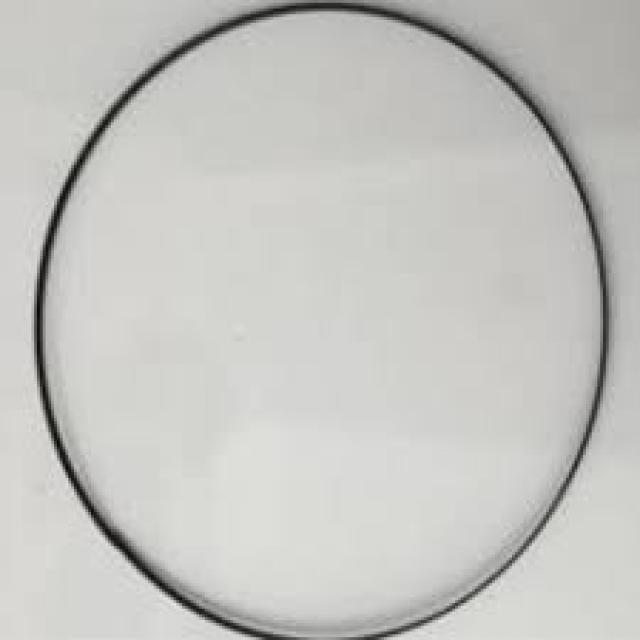Circle: (36, 2, 610, 640)
